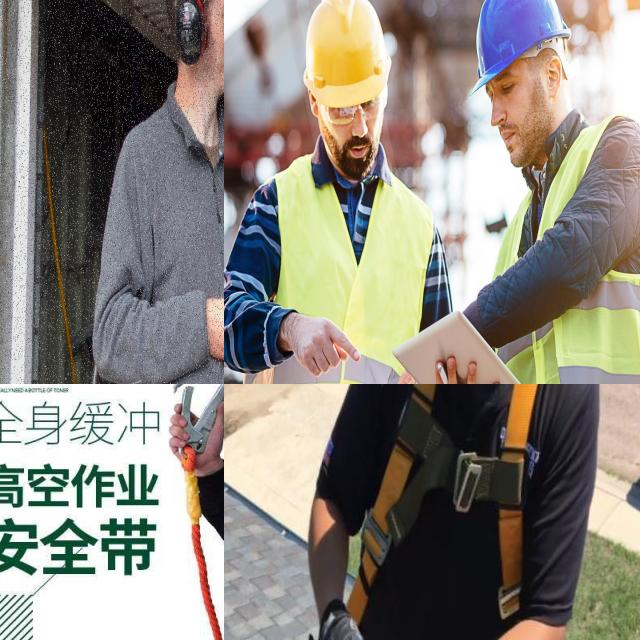Ear-protection: (163, 0, 224, 123)
Harness: (349, 384, 539, 624)
No_Ear-Protection: (545, 54, 564, 99)
No_Glasses: (496, 69, 523, 102), (215, 0, 224, 31)
face_nomask: (479, 65, 559, 168), (314, 89, 381, 179)
glasses: (323, 92, 382, 128)
hand_noglove: (282, 287, 348, 375), (421, 350, 496, 384)
head_helmet: (463, 0, 571, 84), (302, 0, 392, 92)
person: (231, 0, 449, 384), (463, 0, 640, 384)
vest: (252, 152, 433, 384), (486, 124, 640, 384)
